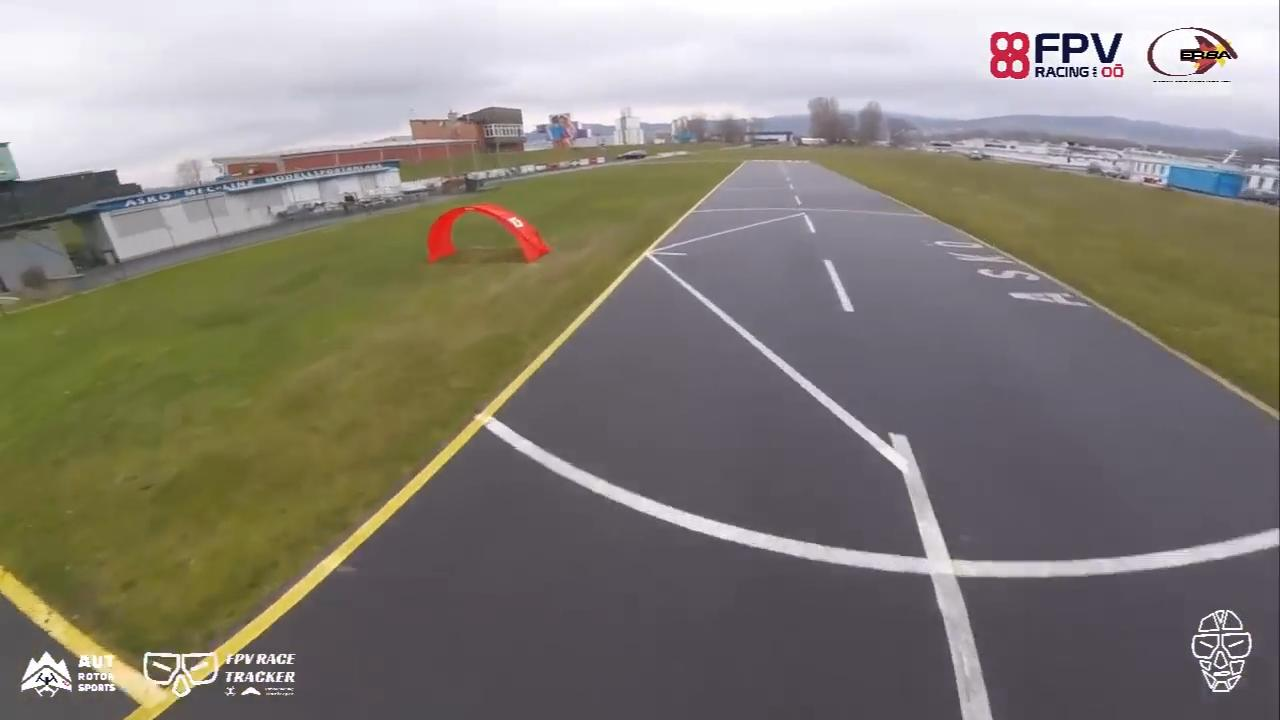gate: (424, 202, 551, 266)
